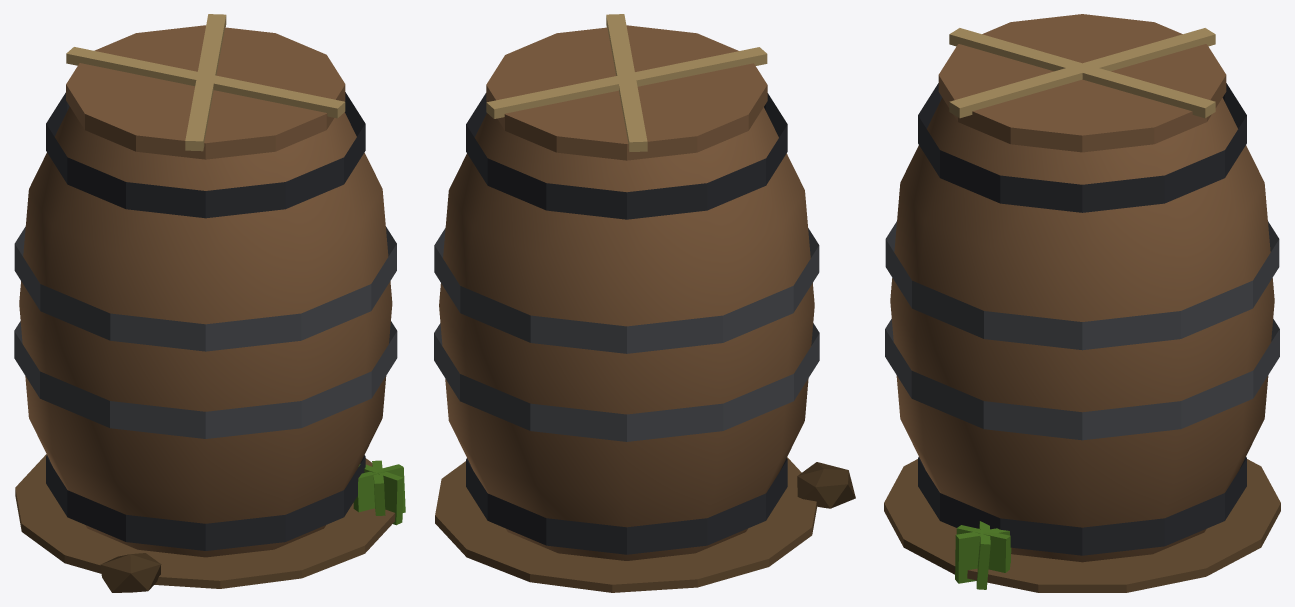
The model's file is SM_Barrel_Rustic_01_Closed.glb.
The picture shows the model from 3 angles, left to right: view 1: azimuth 30°, elevation 25°; view 2: azimuth 150°, elevation 25°; view 3: azimuth 270°, elevation 25°; orthographic projection. The views are drawn at different scales.
Parts seen in each view (by area): view 1: SM_Barrel_Rustic_01_Closed_Body, SM_Barrel_Rustic_01_Closed_Lid, SM_Barrel_Rustic_01_Closed_DirtRing, SM_Barrel_Rustic_01_Closed_Hoop2, SM_Barrel_Rustic_01_Closed_Hoop1, SM_Barrel_Rustic_01_Closed_Hoop3, SM_Barrel_Rustic_01_Closed_Hoop0, SM_Barrel_Rustic_01_Closed_RopeLash0, SM_Barrel_Rustic_01_Closed_RopeLash1, SM_Barrel_Rustic_01_Closed_Pebble0, SM_Barrel_Rustic_01_Closed_Moss00, SM_Barrel_Rustic_01_Closed_Moss02 (+1 smaller); view 2: SM_Barrel_Rustic_01_Closed_Body, SM_Barrel_Rustic_01_Closed_Lid, SM_Barrel_Rustic_01_Closed_DirtRing, SM_Barrel_Rustic_01_Closed_Hoop2, SM_Barrel_Rustic_01_Closed_Hoop1, SM_Barrel_Rustic_01_Closed_Hoop3, SM_Barrel_Rustic_01_Closed_Hoop0, SM_Barrel_Rustic_01_Closed_RopeLash1, SM_Barrel_Rustic_01_Closed_RopeLash0, SM_Barrel_Rustic_01_Closed_Pebble0; view 3: SM_Barrel_Rustic_01_Closed_Body, SM_Barrel_Rustic_01_Closed_Lid, SM_Barrel_Rustic_01_Closed_DirtRing, SM_Barrel_Rustic_01_Closed_Hoop2, SM_Barrel_Rustic_01_Closed_Hoop1, SM_Barrel_Rustic_01_Closed_Hoop3, SM_Barrel_Rustic_01_Closed_Hoop0, SM_Barrel_Rustic_01_Closed_RopeLash0, SM_Barrel_Rustic_01_Closed_RopeLash1, SM_Barrel_Rustic_01_Closed_Moss02, SM_Barrel_Rustic_01_Closed_Moss01, SM_Barrel_Rustic_01_Closed_Moss00.
Part boxes in pixels (x1,y1,x2,y2): SM_Barrel_Rustic_01_Closed_Body: (19,106,392,557); SM_Barrel_Rustic_01_Closed_Lid: (66,25,345,159); SM_Barrel_Rustic_01_Closed_DirtRing: (15,454,395,588); SM_Barrel_Rustic_01_Closed_Hoop2: (14,227,396,351); SM_Barrel_Rustic_01_Closed_Hoop1: (14,321,397,438); SM_Barrel_Rustic_01_Closed_Hoop3: (46,92,365,218); SM_Barrel_Rustic_01_Closed_Hoop0: (46,455,365,550); SM_Barrel_Rustic_01_Closed_RopeLash0: (66,47,345,118); SM_Barrel_Rustic_01_Closed_RopeLash1: (185,14,226,151); SM_Barrel_Rustic_01_Closed_Pebble0: (100,553,161,592); SM_Barrel_Rustic_01_Closed_Moss00: (353,464,405,512); SM_Barrel_Rustic_01_Closed_Moss02: (358,464,403,525); SM_Barrel_Rustic_01_Closed_Body: (439,107,814,560); SM_Barrel_Rustic_01_Closed_Lid: (486,25,767,160); SM_Barrel_Rustic_01_Closed_DirtRing: (435,457,817,592); SM_Barrel_Rustic_01_Closed_Hoop2: (434,228,819,353); SM_Barrel_Rustic_01_Closed_Hoop1: (434,323,819,441); SM_Barrel_Rustic_01_Closed_Hoop3: (466,93,787,219); SM_Barrel_Rustic_01_Closed_Hoop0: (466,458,787,554); SM_Barrel_Rustic_01_Closed_RopeLash1: (486,47,767,118); SM_Barrel_Rustic_01_Closed_RopeLash0: (606,14,647,151); SM_Barrel_Rustic_01_Closed_Pebble0: (797,462,855,508); SM_Barrel_Rustic_01_Closed_Body: (890,98,1274,562); SM_Barrel_Rustic_01_Closed_Lid: (938,14,1226,152); SM_Barrel_Rustic_01_Closed_DirtRing: (884,459,1280,592); SM_Barrel_Rustic_01_Closed_Hoop2: (885,221,1279,350); SM_Barrel_Rustic_01_Closed_Hoop1: (885,319,1279,440); SM_Barrel_Rustic_01_Closed_Hoop3: (918,83,1246,212); SM_Barrel_Rustic_01_Closed_Hoop0: (918,457,1246,555); SM_Barrel_Rustic_01_Closed_RopeLash0: (949,28,1215,118); SM_Barrel_Rustic_01_Closed_RopeLash1: (949,28,1215,118); SM_Barrel_Rustic_01_Closed_Moss02: (955,528,1011,583); SM_Barrel_Rustic_01_Closed_Moss01: (956,525,1010,572); SM_Barrel_Rustic_01_Closed_Moss00: (976,521,990,589).
Size of the model in its own units: 0.6364 by 0.8025 by 0.64.
